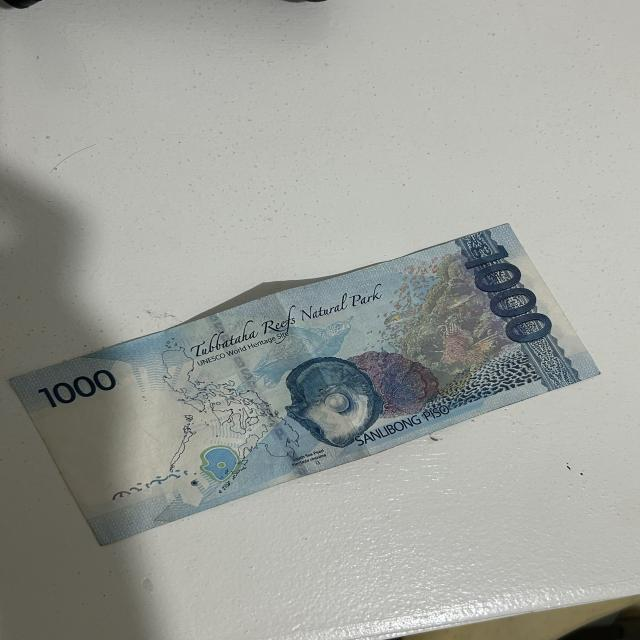1000_pearl: (278, 358, 384, 442)
1000_pearl_watermark: (200, 447, 238, 478)
